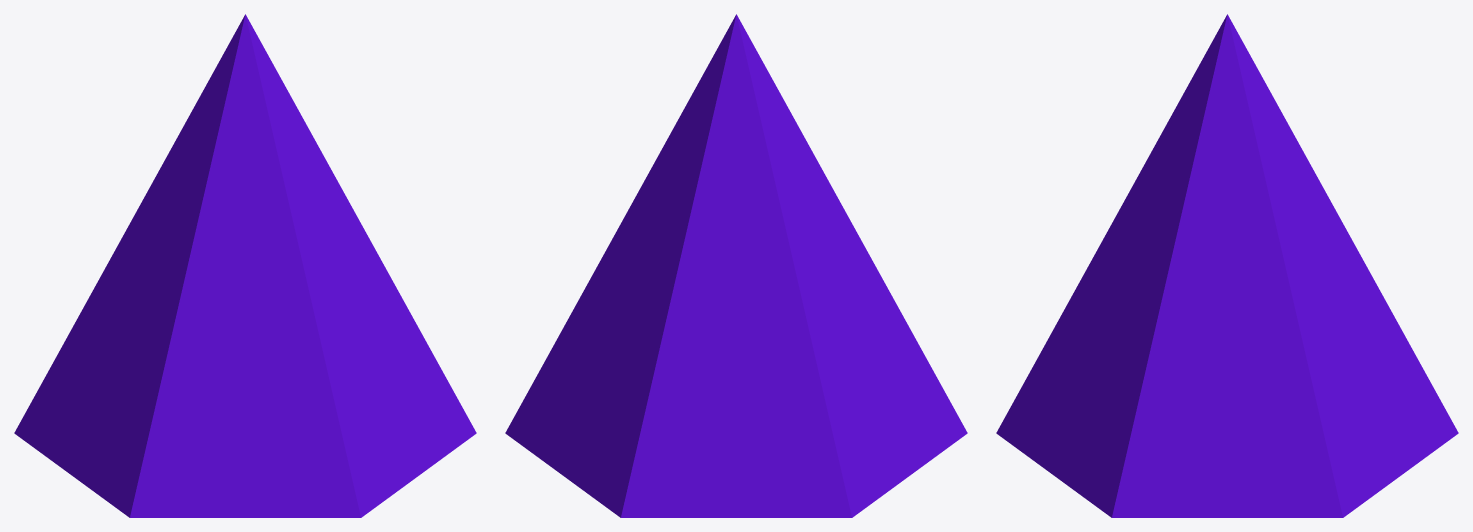
The model's file is BasicShort.fbx.
3 views of the same model, side by side, from view 1: azimuth 30°, elevation 25°; view 2: azimuth 150°, elevation 25°; view 3: azimuth 270°, elevation 25° (orthographic).
Visible parts, largest first — view 1: Cone; view 2: Cone; view 3: Cone.
Boxes of the visible parts, left/top/right/bottom form: Cone: left=14, top=14, right=476, bottom=517; Cone: left=505, top=14, right=967, bottom=517; Cone: left=996, top=14, right=1458, bottom=517.
Bounding box in the file's own units: 173 × 200 × 200.
